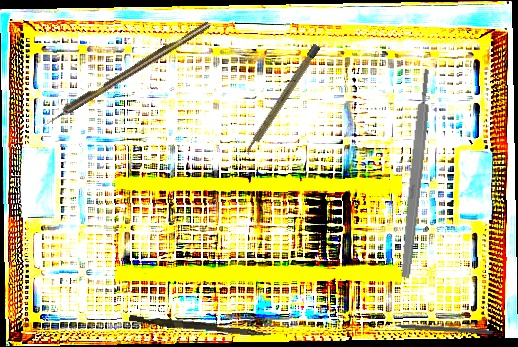Hook Surgical: (39, 20, 212, 129), (380, 321, 494, 335)
Pusher: (128, 314, 272, 338)
Scalpel Handle: (243, 43, 321, 157), (399, 68, 434, 279)
